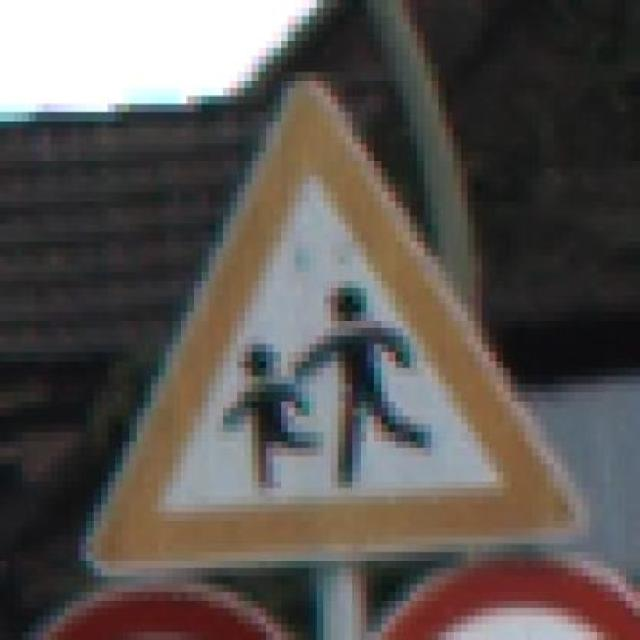Beware of children: (79, 46, 596, 591)
